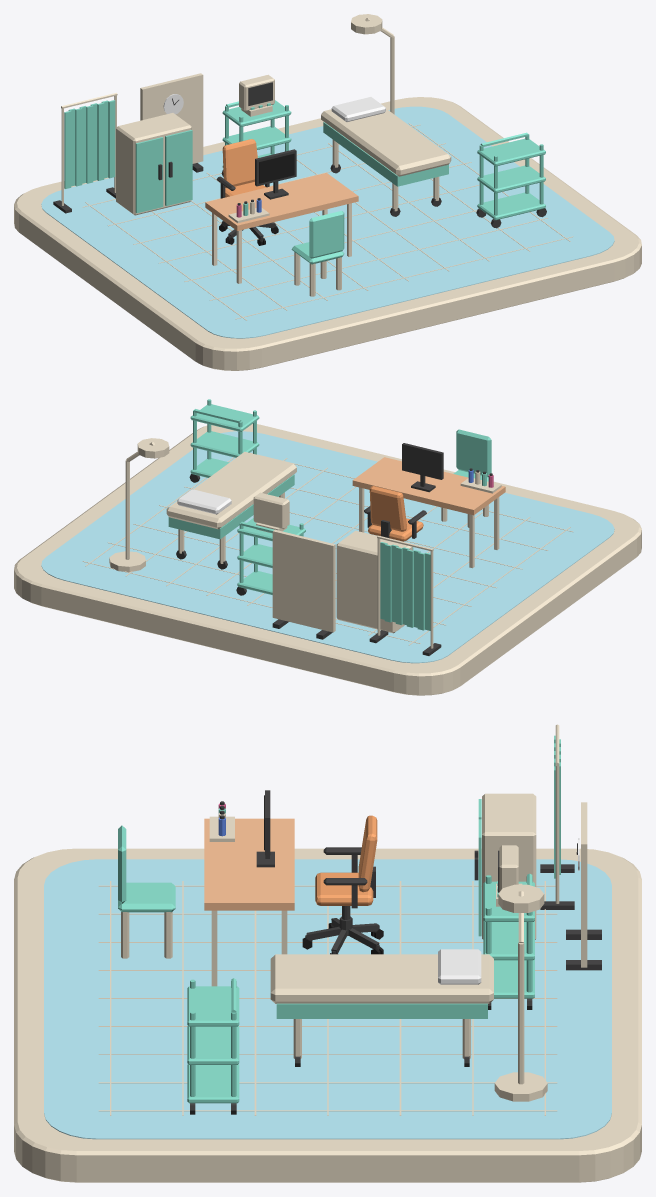
Rendered from room.fbx.
3 views of the same model, one above another, from view 1: azimuth 30°, elevation 25°; view 2: azimuth 150°, elevation 25°; view 3: azimuth 270°, elevation 25° (orthographic). The views are drawn at different scales.
Parts seen in each view (by area): view 1: COM-02 Floor Surface, COM-01 Rounded Base Direct, Top, Mattress, Equipment case, Panel, COM-04_Chair_blender_direct, Door, Door.001, Backrest, Frame, Tray.002 (+13 smaller); view 2: COM-02 Floor Surface, COM-01 Rounded Base Direct, Panel, Top, Mattress, Equipment case, COM-04_Chair_blender_direct, Frame, Backrest, Housing, Tray.001, Tray.002 (+14 smaller); view 3: COM-02 Floor Surface, COM-01 Rounded Base Direct, Mattress, Top, COM-04_Chair_blender_direct, Equipment case, Base, Tray.002, Tray, Tray.001, Seat, Pillow (+15 smaller).
Boxes of the visible parts, bbox=[...] form: COM-02 Floor Surface: bbox=[41, 106, 614, 338]; COM-01 Rounded Base Direct: bbox=[14, 97, 641, 370]; Top: bbox=[205, 173, 358, 283]; Mattress: bbox=[321, 108, 451, 176]; Equipment case: bbox=[116, 113, 191, 215]; Panel: bbox=[140, 73, 203, 163]; COM-04_Chair_blender_direct: bbox=[216, 139, 278, 245]; Door: bbox=[135, 137, 163, 213]; Door.001: bbox=[165, 130, 192, 206]; Backrest: bbox=[309, 210, 344, 258]; Frame: bbox=[255, 149, 296, 199]; Tray.002: bbox=[477, 138, 545, 166]; COM-02 Floor Surface: bbox=[41, 431, 614, 663]; COM-01 Rounded Base Direct: bbox=[14, 424, 641, 695]; Panel: bbox=[272, 529, 335, 632]; Top: bbox=[352, 457, 505, 568]; Mattress: bbox=[166, 451, 296, 529]; Equipment case: bbox=[336, 530, 412, 633]; COM-04_Chair_blender_direct: bbox=[364, 486, 426, 541]; Frame: bbox=[402, 443, 443, 492]; Backrest: bbox=[456, 429, 491, 476]; Housing: bbox=[253, 492, 289, 528]; Tray.001: bbox=[190, 431, 259, 457]; Tray.002: bbox=[190, 404, 259, 431]; COM-02 Floor Surface: bbox=[44, 859, 611, 1139]; COM-01 Rounded Base Direct: bbox=[14, 848, 641, 1182]; Mattress: bbox=[270, 954, 493, 1003]; Top: bbox=[204, 818, 294, 986]; COM-04_Chair_blender_direct: bbox=[302, 815, 383, 954]; Equipment case: bbox=[482, 793, 536, 939]; Base: bbox=[276, 1008, 487, 1018]; Tray.002: bbox=[187, 986, 239, 1026]; Tray: bbox=[187, 1064, 239, 1103]; Tray.001: bbox=[187, 1026, 239, 1064]; Seat: bbox=[118, 882, 175, 912]; Pillow: bbox=[438, 949, 481, 984].
Size of the model in its own units: 600 by 196 by 520.
